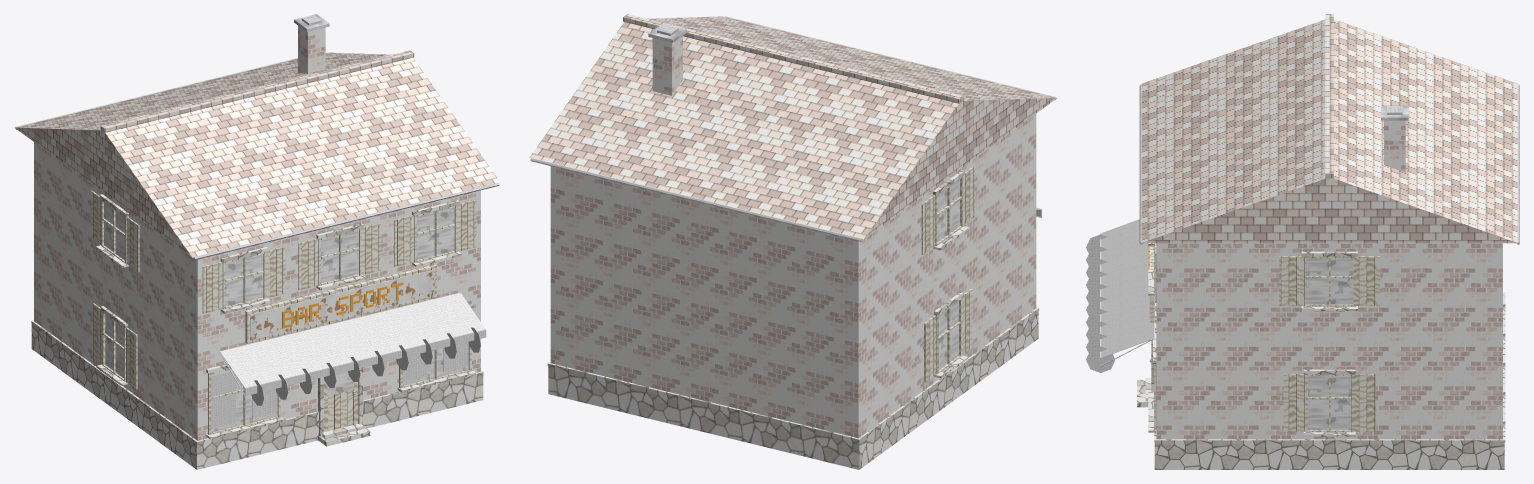
File: bar_piazza.obj
The picture shows the model from 3 angles, left to right: view 1: azimuth 30°, elevation 25°; view 2: azimuth 150°, elevation 25°; view 3: azimuth 270°, elevation 25°; orthographic projection. The views are drawn at different scales.
Parts seen in each view (by area): view 1: tegole_002, mattone_000, pietra_001, tessuto_010, tessuto_011, insegna_008, legno_029, legno_007, legno_037, legno_033, tessuto_021, vetro_026 (+24 smaller); view 2: mattone_000, tegole_002, pietra_001, metallo_003, mattone_004, legno_045, legno_053, vetro_042, vetro_050, legno_043, legno_051; view 3: tegole_002, mattone_000, pietra_001, tessuto_011, tessuto_010, legno_041, legno_049, vetro_038, vetro_046, mattone_004, metallo_003, legno_047 (+3 smaller).
Part boxes in pixels (x1,y1,x2,y2): tegole_002: [15, 50, 499, 257]; mattone_000: [34, 142, 480, 440]; pietra_001: [31, 320, 483, 469]; tessuto_010: [220, 298, 462, 405]; tessuto_011: [244, 292, 486, 399]; insegna_008: [250, 269, 434, 340]; legno_029: [202, 246, 285, 313]; legno_007: [245, 256, 436, 343]; legno_037: [394, 200, 476, 266]; legno_033: [298, 223, 380, 290]; tessuto_021: [211, 370, 276, 428]; vetro_026: [225, 254, 263, 306]; mattone_000: [550, 114, 1036, 438]; tegole_002: [529, 14, 1056, 239]; pietra_001: [547, 307, 1039, 469]; metallo_003: [530, 16, 1055, 241]; mattone_004: [652, 36, 682, 95]; legno_045: [924, 289, 972, 382]; legno_053: [921, 166, 974, 254]; vetro_042: [938, 301, 958, 369]; vetro_050: [937, 180, 959, 241]; legno_043: [936, 297, 962, 374]; legno_051: [935, 176, 963, 246]; tegole_002: [1141, 14, 1518, 243]; mattone_000: [1156, 243, 1502, 439]; pietra_001: [1154, 292, 1505, 469]; tessuto_011: [1086, 231, 1154, 372]; tessuto_010: [1086, 219, 1154, 352]; legno_041: [1283, 374, 1375, 431]; legno_049: [1279, 256, 1379, 305]; vetro_038: [1308, 376, 1351, 430]; vetro_046: [1306, 258, 1353, 304]; mattone_004: [1384, 120, 1405, 172]; metallo_003: [1139, 84, 1519, 244]; legno_047: [1303, 256, 1356, 306].
Bounding box in the file's own units: 8.74 × 8.42 × 10.02.
24 materials, 23 textured.
